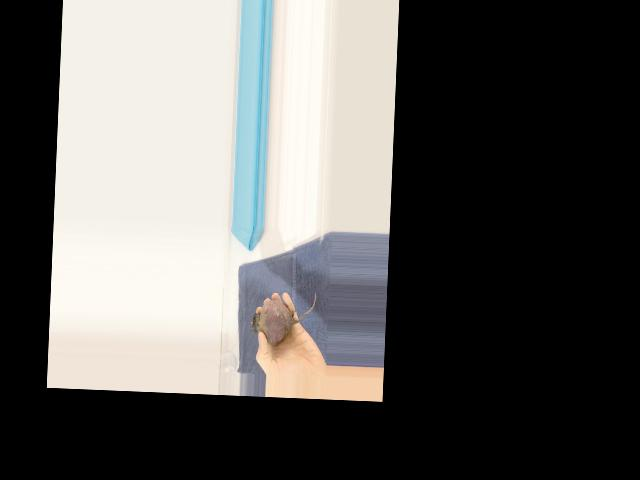beet: (250, 289, 316, 346)
